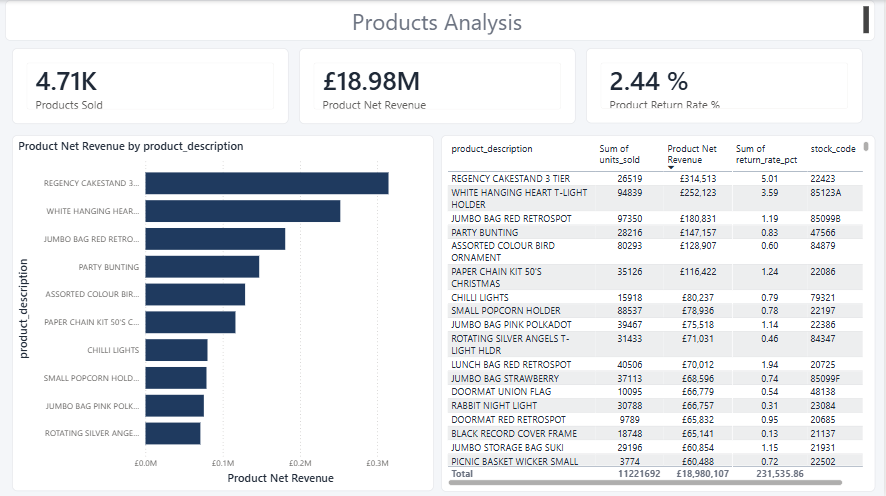

The dashboard page shown, as its layout file describes it:
{"tool":"powerbi","page":{"name":"Products","canvas":[1280,720],"ordinal":3},"visuals":[{"type":"textbox","box":[10.1,0,1258.2,58.8],"z":0},{"type":"cardVisual","fields":{"Data":["Measures_.Products Sold"]},"box":[20,70,400,110],"z":1000},{"type":"cardVisual","fields":{"Data":["Measures_.Product Net Revenue"]},"box":[435,70,400,110],"z":2000},{"type":"cardVisual","fields":{"Data":["Measures_.Product Return Rate %"]},"box":[850,70,400,109],"z":3000},{"type":"clusteredBarChart","fields":{"Category":["dim_product.product_description"],"Y":["Measures_.Product Net Revenue"]},"box":[20,195,610,515],"z":4000},{"type":"tableEx","fields":{"Values":["dim_product.product_description","Sum(dim_product.units_sold)","Measures_.Product Net Revenue","Sum(dim_product.return_rate_pct)","dim_product.stock_code"]},"box":[640,194.9,628.2,515.7],"z":5000}]}

Visuals, with their boxes in screenshot pixels (x1, y1, x2, y2), scaled from the page's 1280x720 canvas onto the 886x496 screenshot:
textbox: <region>7, 0, 878, 41</region>
cardVisual - Measures_.Products Sold: <region>14, 48, 291, 124</region>
cardVisual - Measures_.Product Net Revenue: <region>301, 48, 578, 124</region>
cardVisual - Measures_.Product Return Rate %: <region>588, 48, 865, 123</region>
clusteredBarChart - dim_product.product_description x Measures_.Product Net Revenue: <region>14, 134, 436, 489</region>
tableEx - dim_product.product_description x Sum(dim_product.units_sold): <region>443, 134, 878, 490</region>
